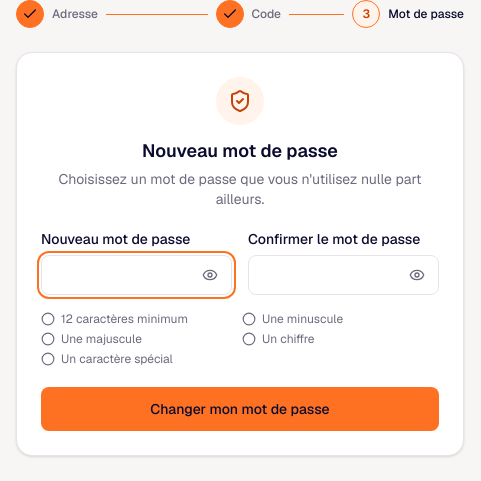
Test: ForgotPasswordFlow › ramène à la demande de code quand le jeton a expiré
Type "Transport-2027!" into the password field labelled "Nouveau mot de passe".
click(136, 275); type("Transport-2027!")  # box [41,255,232,295]
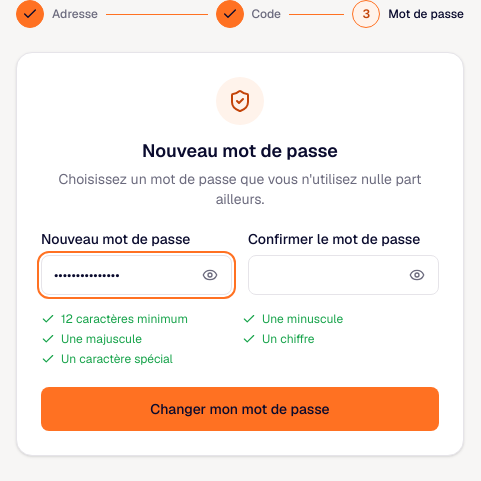
Type "Transport-2027!" into the password field labelled "Confirmer le mot de passe".
click(344, 275); type("Transport-2027!")  # box [248,255,439,295]
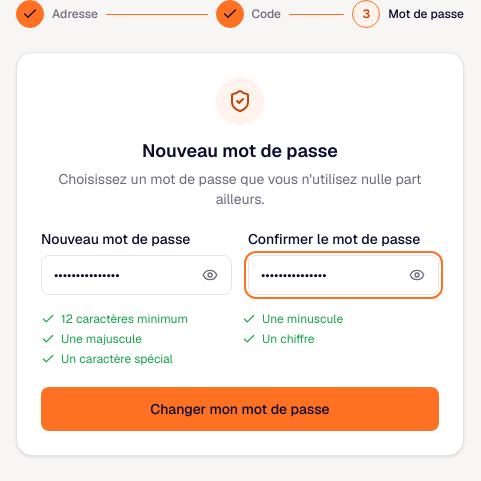
Click the button "Changer mon mot de passe".
click(240, 409)  # box [41,387,439,431]
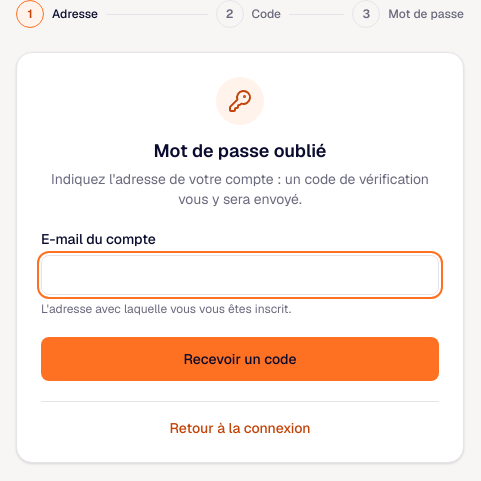
Now the heading "Mot de passe oublié" is shown, box [154,137,326,165]
